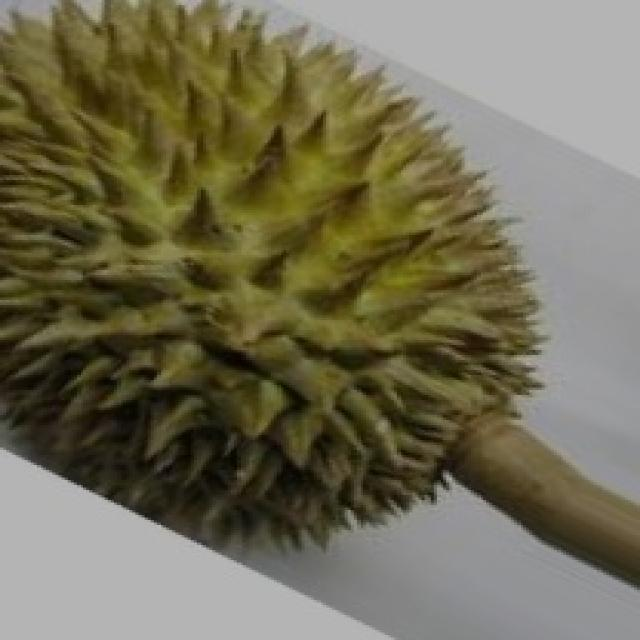fruit: (0, 173, 342, 615)
